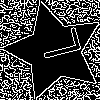L: (29, 26, 82, 64)
